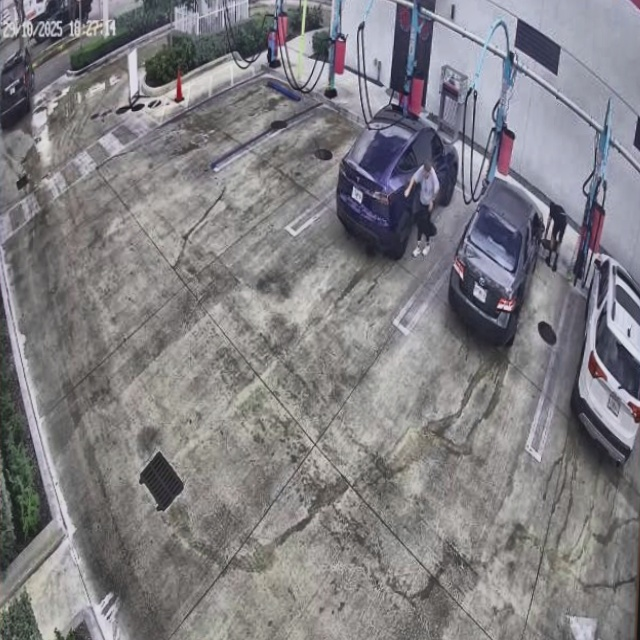Car: (335, 103, 462, 250), (450, 181, 546, 342)
